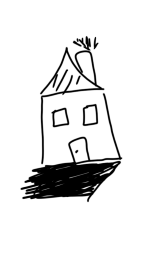door: (65, 134, 92, 164)
open_window: (48, 108, 75, 130), (80, 103, 100, 128)
roof: (28, 47, 105, 100)
shadow: (15, 154, 124, 209)
smoking_chimney: (70, 24, 102, 88)
wall: (36, 85, 121, 162)
